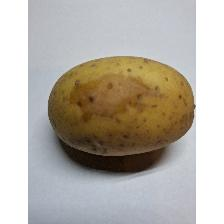Kartoffel: (46, 50, 196, 158)
